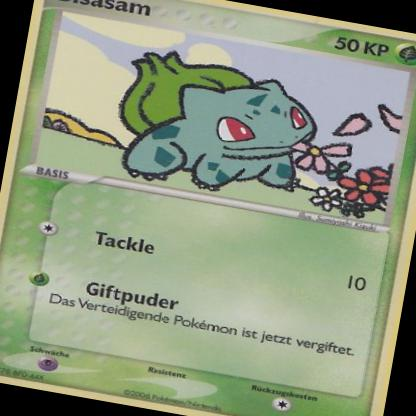Bulbasaur: (94, 37, 331, 209)
